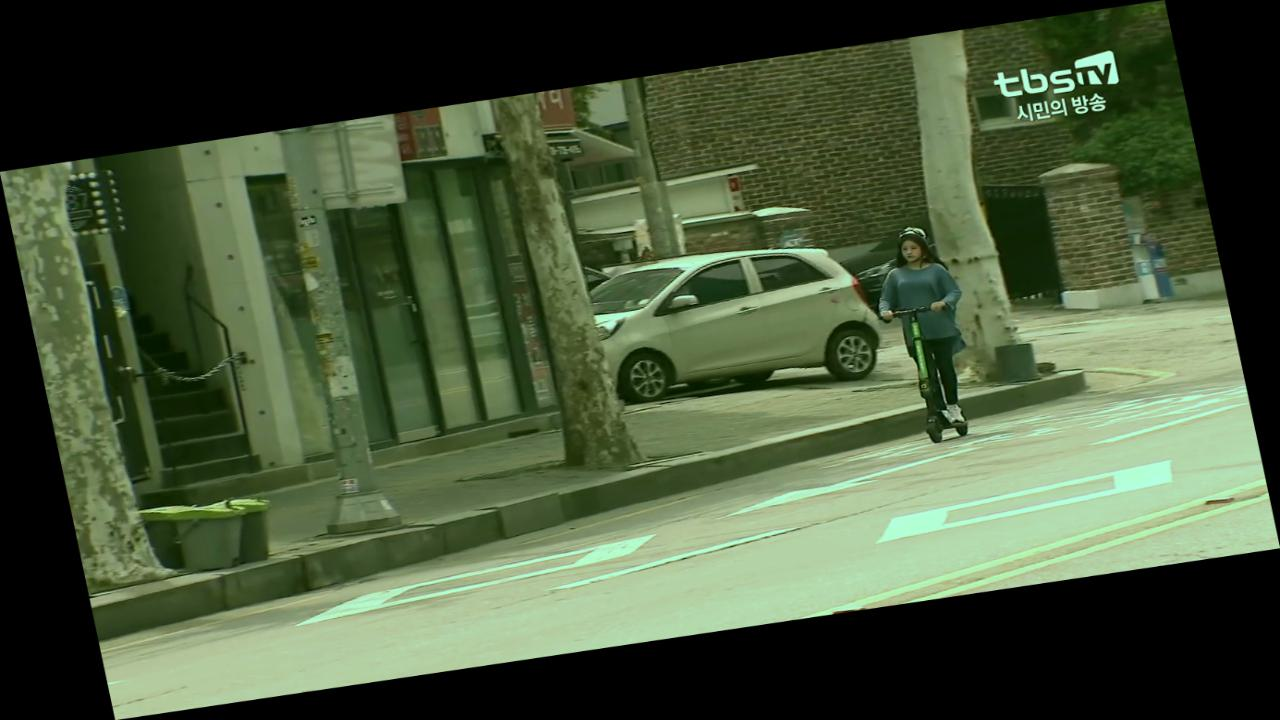helmet: (860, 219, 995, 449)
